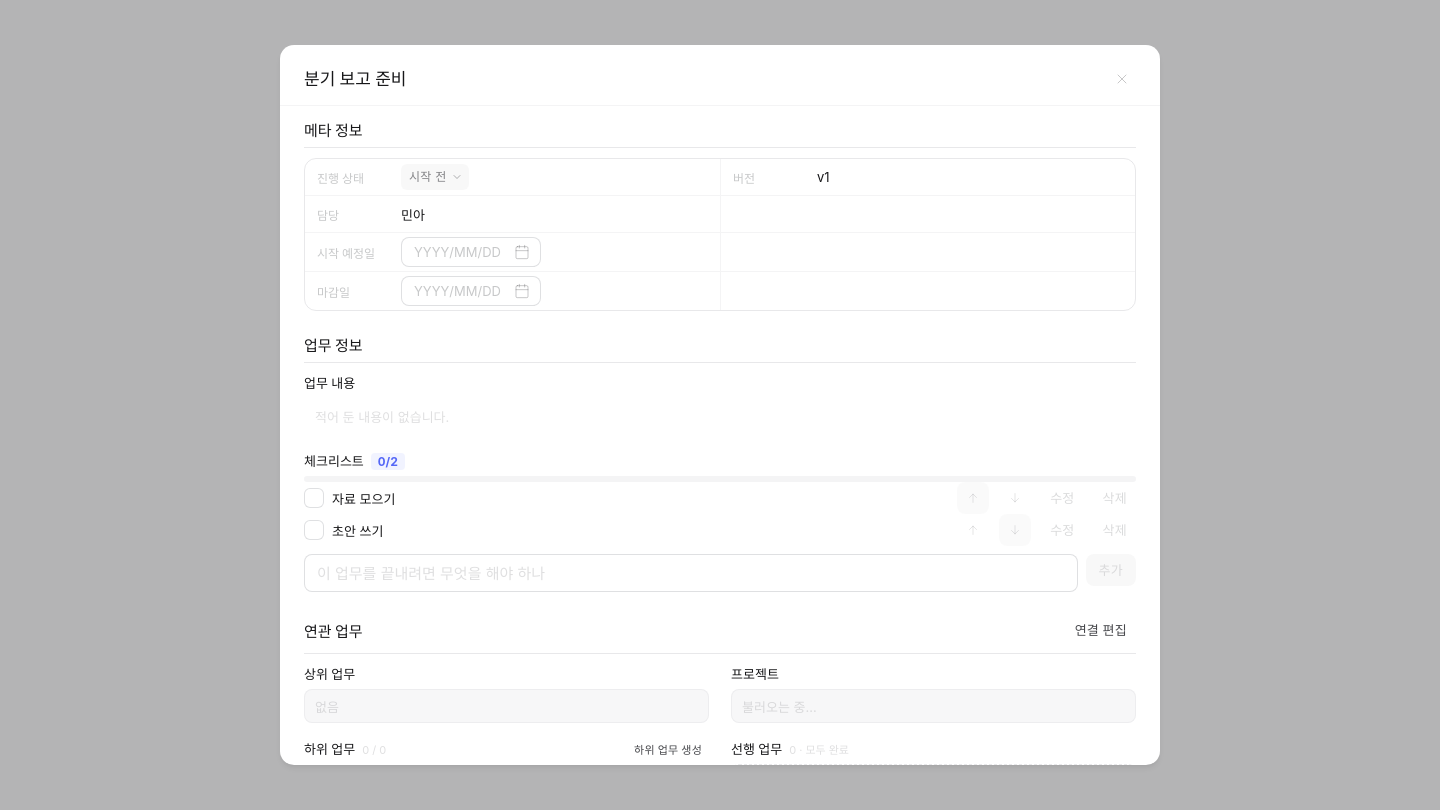
task checklist › checks a step off and moves the progress with the server's answer
Expected: the text "0/2" is shown, [371,453,405,470]
Click the checkbox labelled "초안 쓰기": (344, 530) [304,520,384,540]
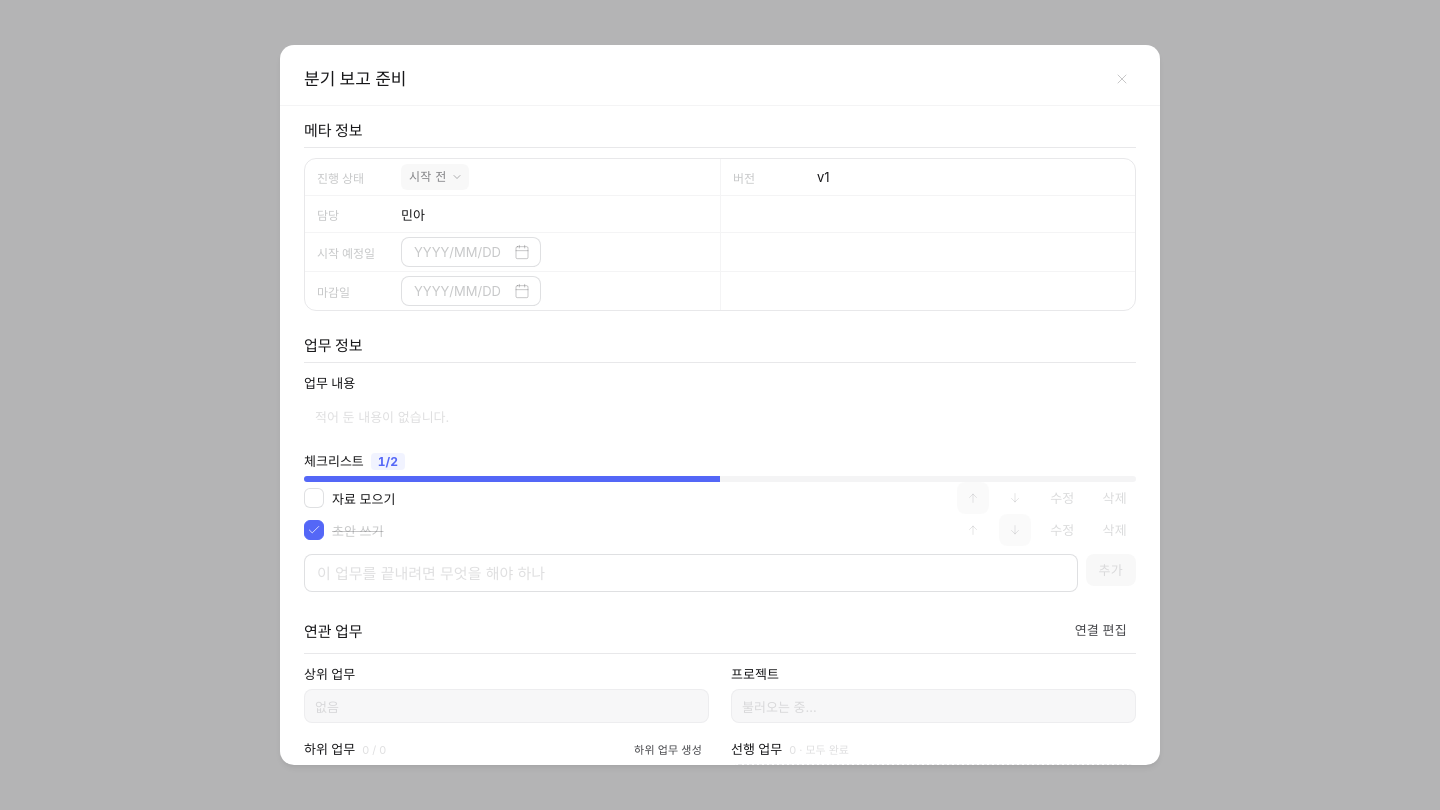
Expected: the text "1/2" is shown, [371,453,405,470]
